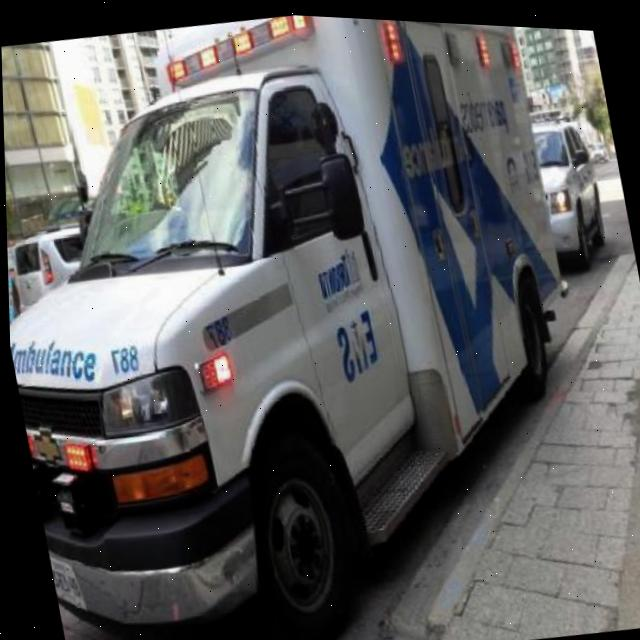emergency: (0, 0, 628, 640)
